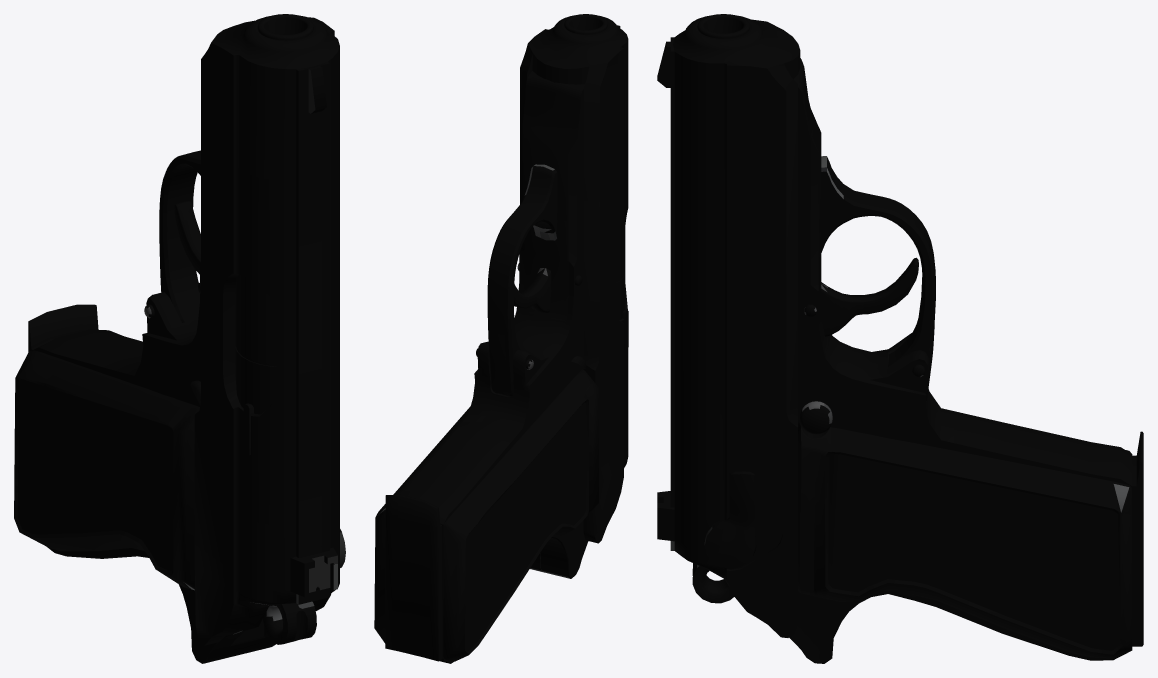
The model's file is WaltherPPK.fbx.
3 renders of one model, left to right at view 1: azimuth 30°, elevation 25°; view 2: azimuth 150°, elevation 25°; view 3: azimuth 270°, elevation 25°, orthographic. The views are drawn at different scales.
Visible parts, largest first — view 1: asset_WaltherPPK.001; view 2: asset_WaltherPPK.001; view 3: asset_WaltherPPK.001.
Part boxes in pixels (bbox=[...]): asset_WaltherPPK.001: bbox=[14, 14, 345, 663]; asset_WaltherPPK.001: bbox=[374, 14, 628, 663]; asset_WaltherPPK.001: bbox=[657, 14, 1143, 663].
Size of the model in its own units: 0.0176 by 0.0966 by 0.0683.
